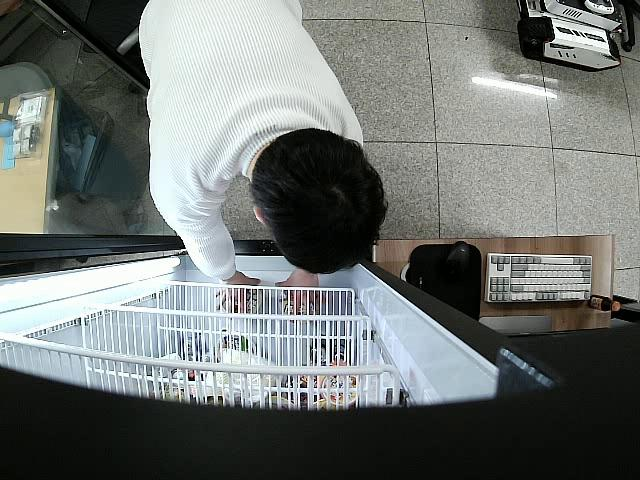00_hand: (274, 269, 325, 326), (214, 275, 261, 317)
03_chapagetti_L: (279, 290, 319, 325), (219, 284, 263, 315)
